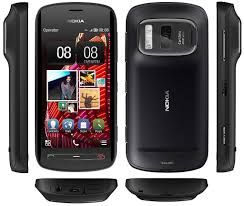nokia: (124, 2, 208, 174), (33, 1, 117, 172)
